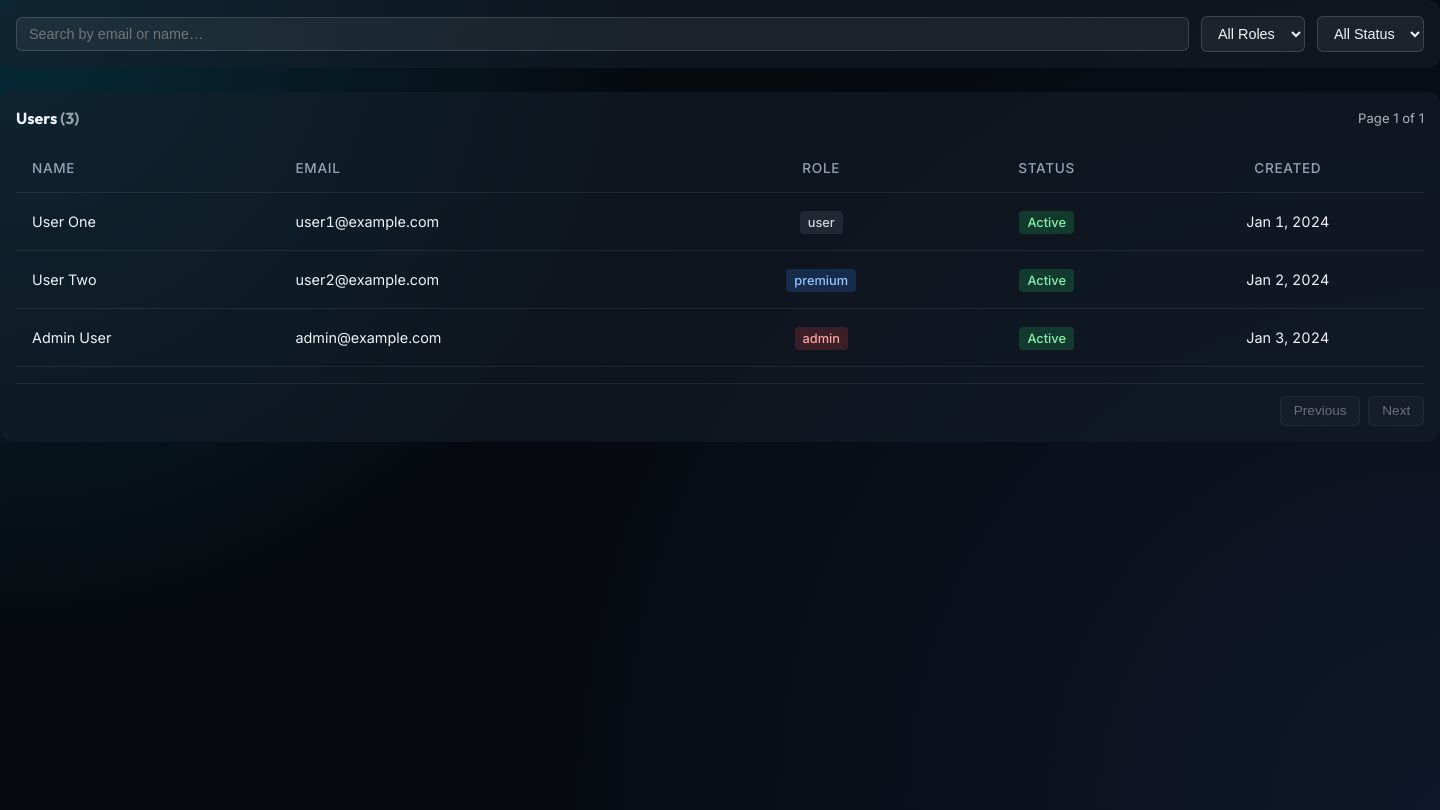
UsersTab › disables role selector for current user
expect the text "admin@example.com" is shown: met, box 280,308 -> 701,366
Step 1. Click the text "Admin User" → (720, 338), box 16,308 -> 1424,366
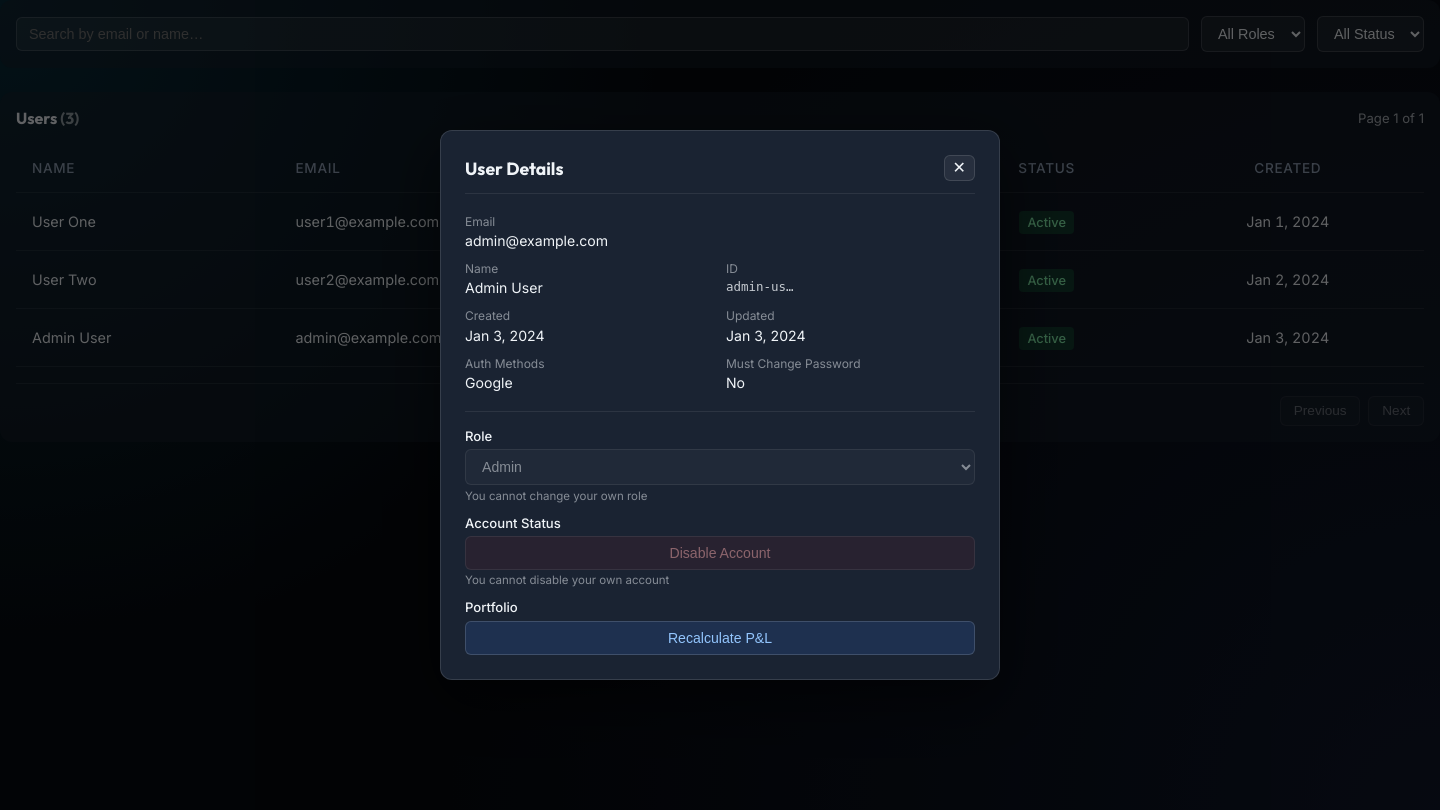
expect the heading "User Details" is shown: met, box 465,156 -> 564,180
expect the dropdown is disabled: met, box 465,449 -> 975,485
expect the text "You cannot change your own role" is shown: met, box 465,489 -> 648,503
